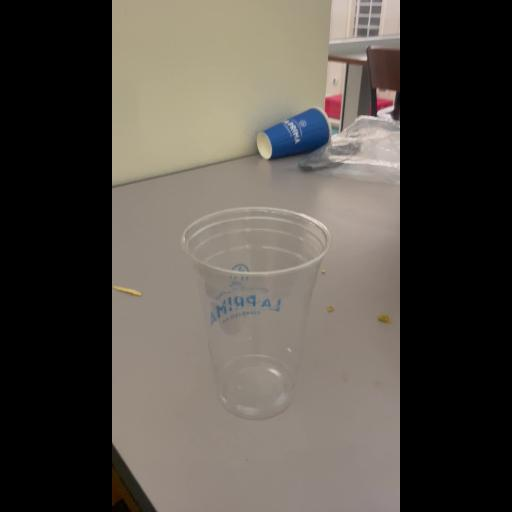lp_plastic_cup: (180, 203, 338, 425)
